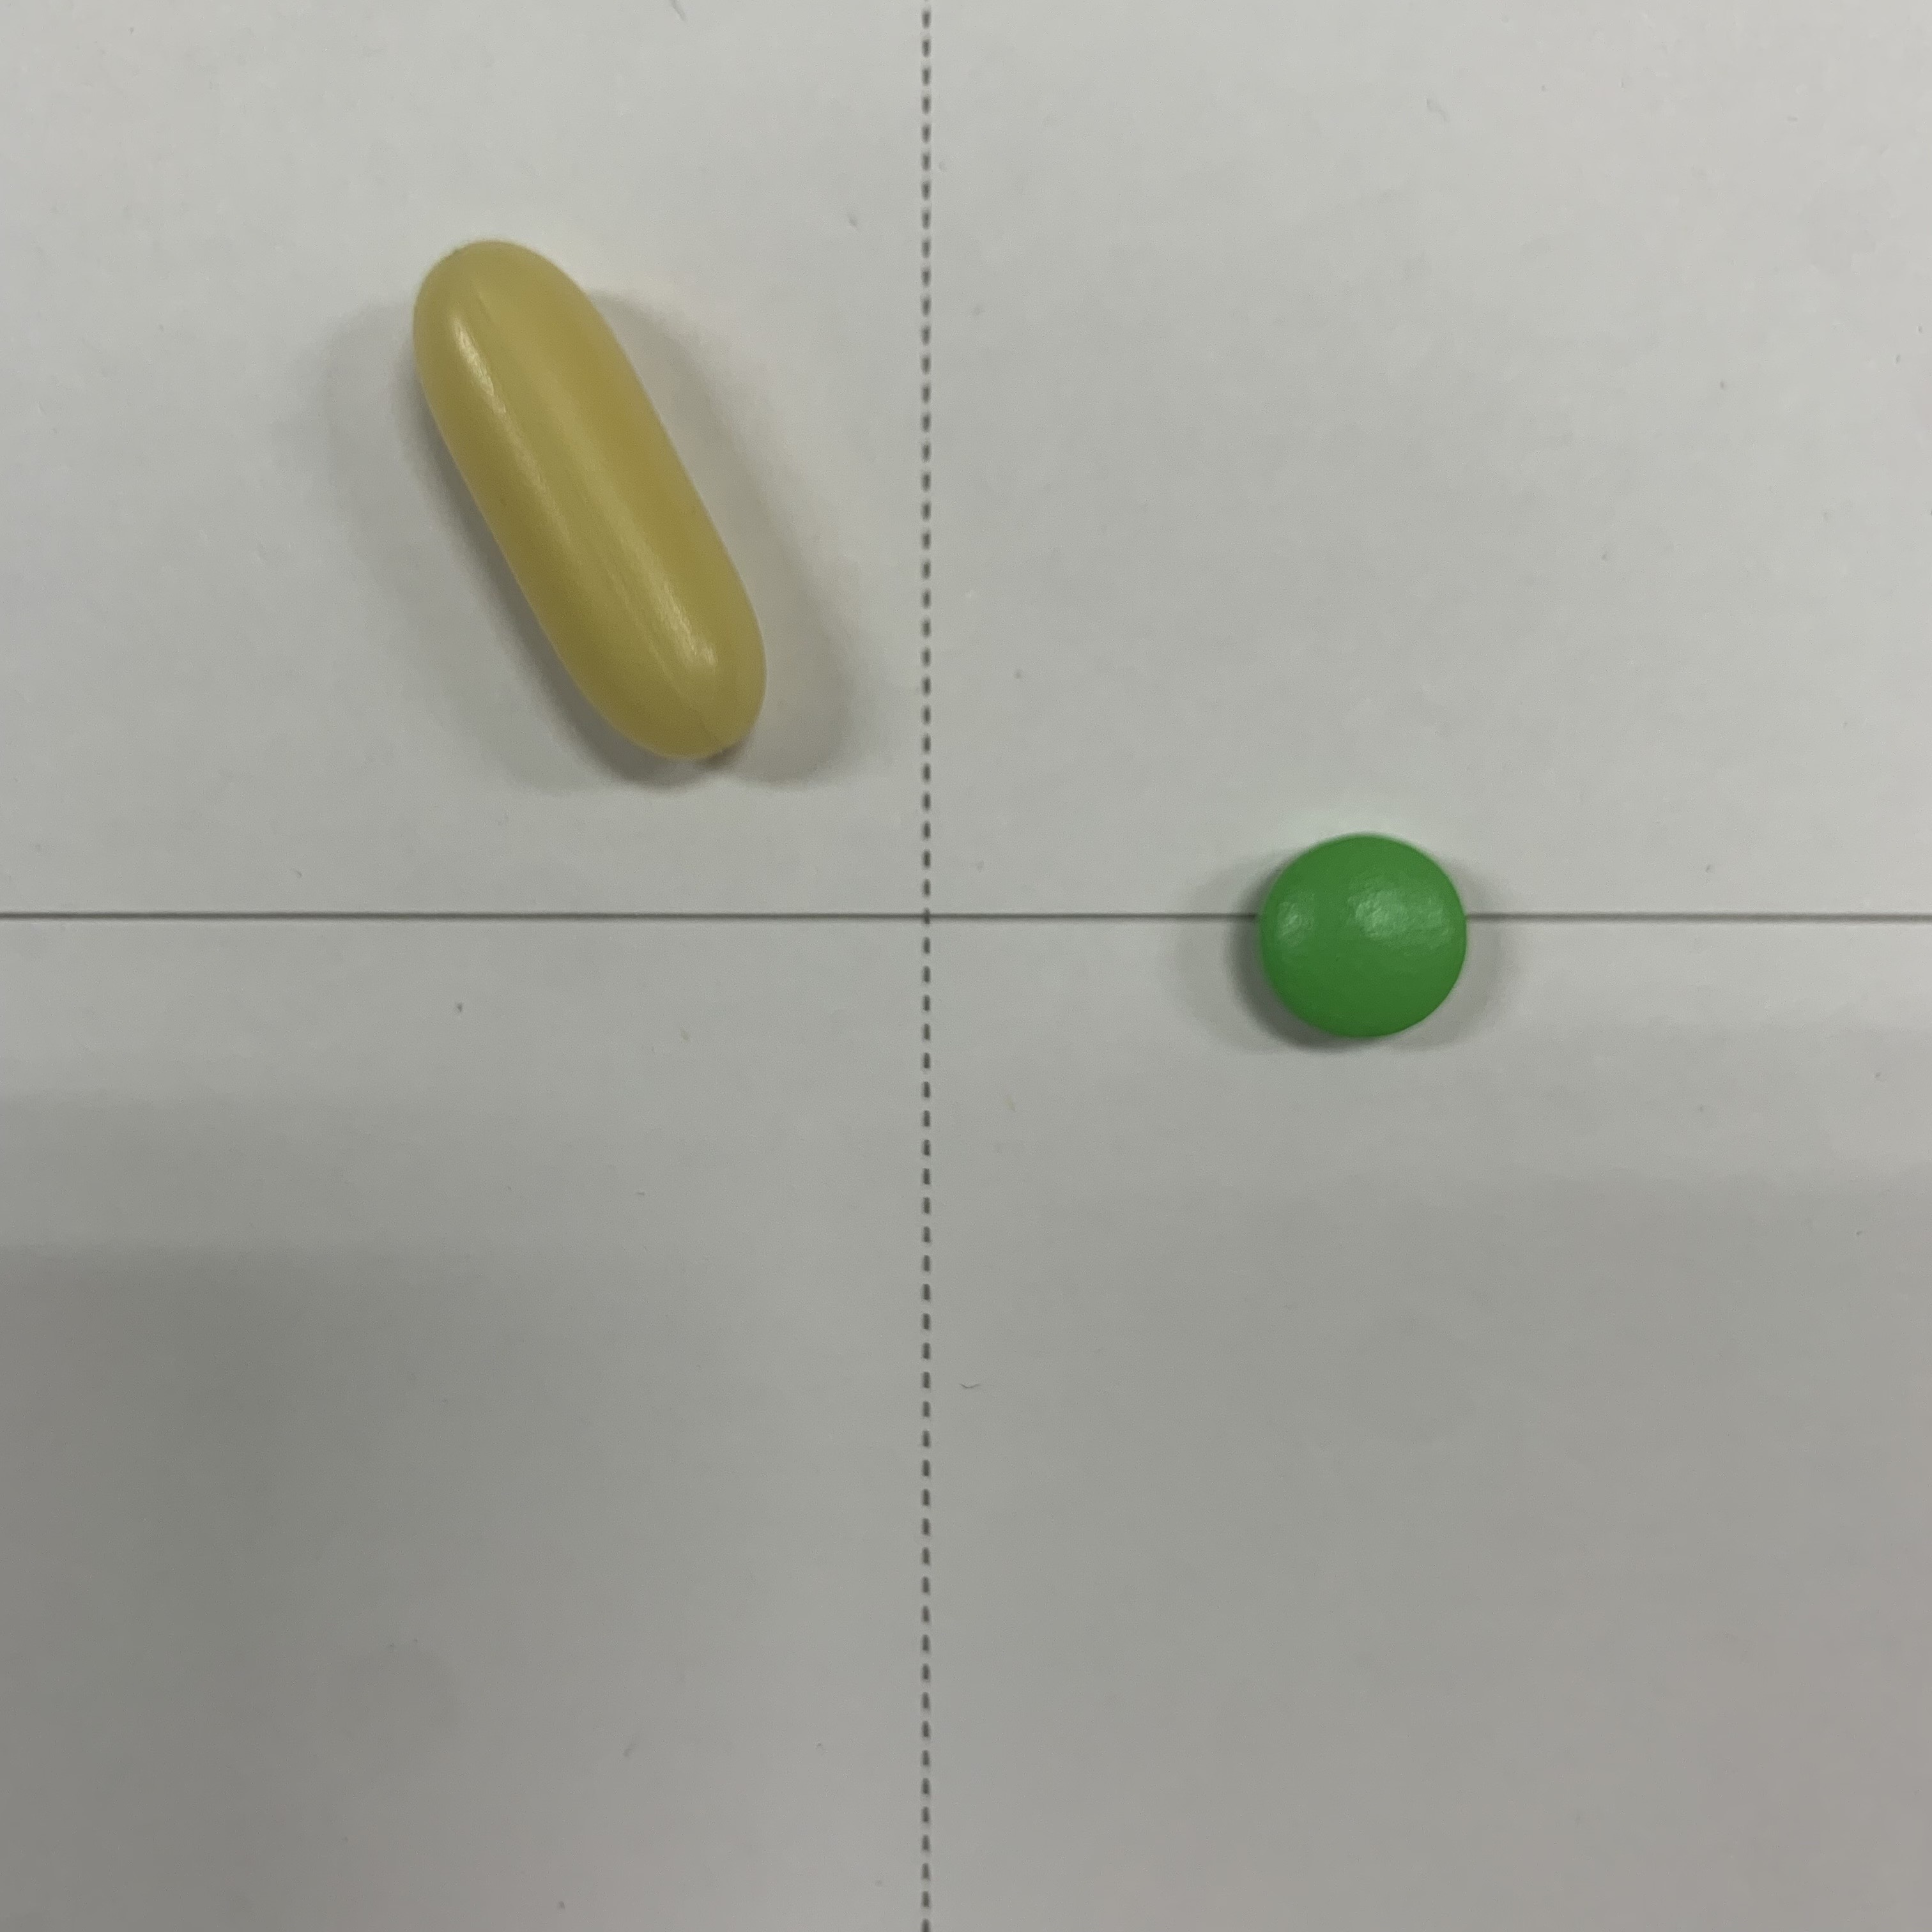cir_drug: (1203, 817, 1513, 1083)
rec_drug: (375, 221, 844, 805)
